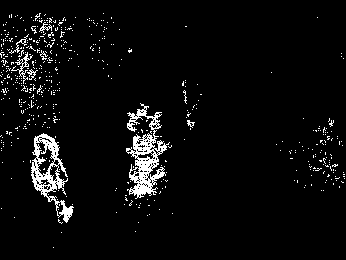person: (29, 132, 75, 226)
